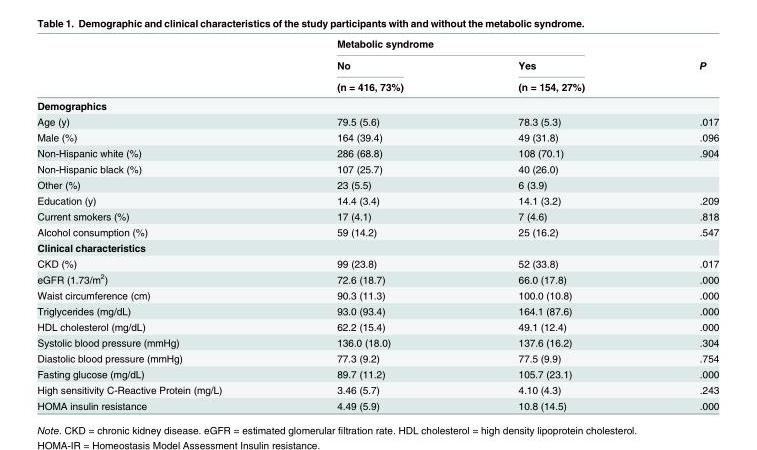table: (36, 37, 718, 411)
table column: (36, 37, 278, 411), (278, 37, 460, 411), (460, 37, 641, 411), (641, 37, 718, 411)
table column header: (36, 37, 718, 95)
table projected row header: (36, 95, 718, 113), (36, 239, 718, 255)
table row: (36, 53, 718, 75), (36, 75, 718, 95), (36, 95, 718, 113), (36, 37, 718, 53), (36, 113, 718, 129), (36, 144, 718, 160), (36, 160, 718, 176), (36, 176, 718, 192), (36, 192, 718, 208), (36, 223, 718, 239), (36, 239, 718, 255), (36, 270, 718, 286), (36, 286, 718, 302), (36, 302, 718, 318), (36, 318, 718, 334), (36, 334, 718, 350), (36, 365, 718, 381), (36, 381, 718, 397), (36, 129, 718, 144), (36, 208, 718, 223), (36, 255, 718, 270), (36, 350, 718, 365), (36, 397, 718, 411)
table spanning cell: (278, 53, 460, 95), (460, 53, 641, 95), (278, 37, 641, 53), (641, 37, 718, 95)
